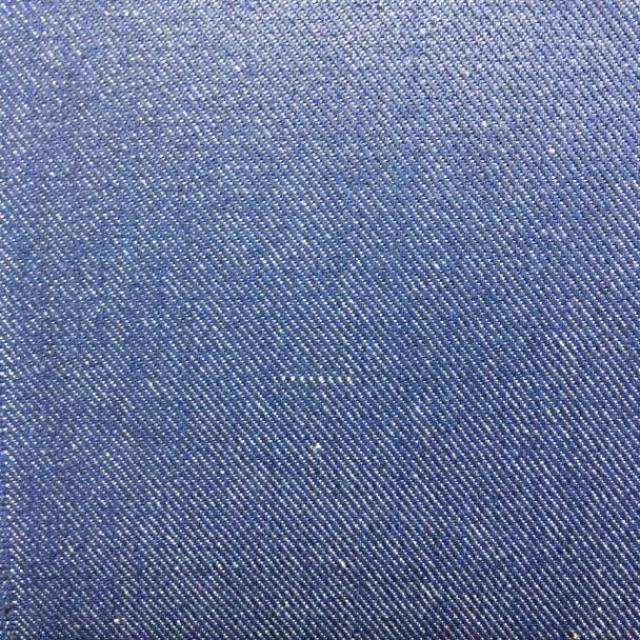Knot: (278, 374, 353, 387)
